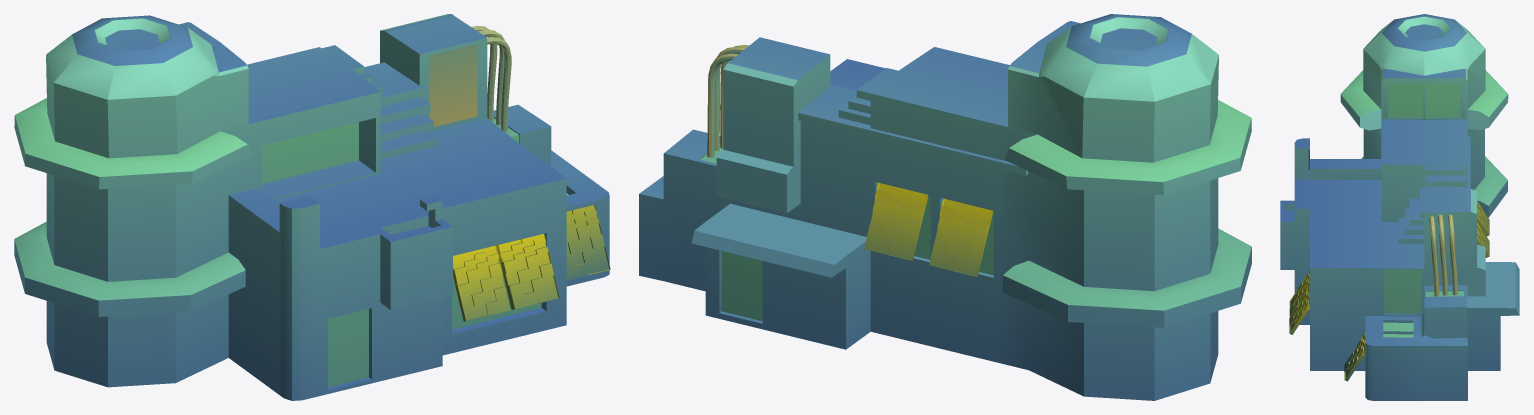
File: SM_PrototypeBuilding_03.glb
The picture shows the model from 3 angles, left to right: view 1: azimuth 30°, elevation 25°; view 2: azimuth 150°, elevation 25°; view 3: azimuth 270°, elevation 25°; orthographic projection. The views are drawn at different scales.
Parts seen in each view (by area): view 1: SM_Building_03; view 2: SM_Building_03; view 3: SM_Building_03.
Part boxes in pixels (bbox=[...]): SM_Building_03: bbox=[14, 14, 610, 400]; SM_Building_03: bbox=[639, 14, 1251, 400]; SM_Building_03: bbox=[1280, 14, 1519, 400].
Bounding box in the file's own units: 17.51 × 9.7 × 9.47.
1 material, 1 textured.
